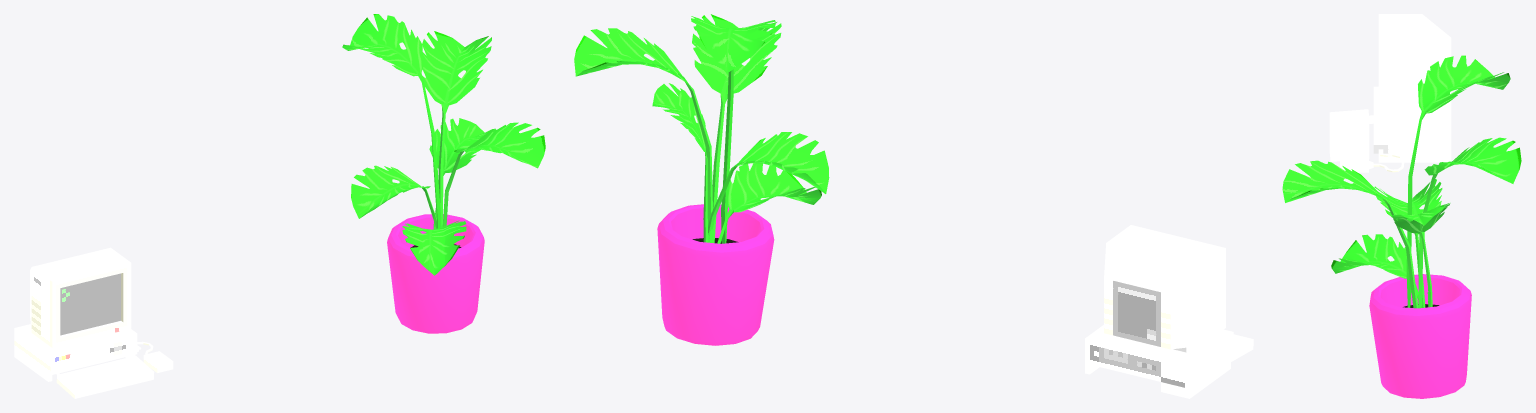
The picture shows the model from 3 angles, left to right: view 1: azimuth 30°, elevation 25°; view 2: azimuth 150°, elevation 25°; view 3: azimuth 270°, elevation 25°; orthographic projection. The views are drawn at different scales.
Parts seen in each view (by area): view 1: Cylinder.003_1, Monitor_1, Cylinder.003_0, PC_0, Keyboard_3, Mouse_2; view 2: Cylinder.003_1, Cylinder.003_0, Monitor_1, PC_0; view 3: Cylinder.003_1, Cylinder.003_0, Monitor_1, PC_0, Keyboard_3, Mouse_2.
Boxes of the visible parts, x1=… form: Cylinder.003_1: x1=342, y1=14, x2=545, y2=275; Monitor_1: x1=30, y1=247, x2=131, y2=347; Cylinder.003_0: x1=387, y1=214, x2=484, y2=333; PC_0: x1=14, y1=324, x2=137, y2=381; Keyboard_3: x1=56, y1=355, x2=154, y2=398; Mouse_2: x1=137, y1=341, x2=173, y2=372; Cylinder.003_1: x1=574, y1=14, x2=829, y2=243; Cylinder.003_0: x1=657, y1=204, x2=774, y2=345; Monitor_1: x1=1104, y1=225, x2=1225, y2=352; PC_0: x1=1085, y1=325, x2=1233, y2=398; Cylinder.003_1: x1=1282, y1=55, x2=1521, y2=308; Cylinder.003_0: x1=1369, y1=274, x2=1471, y2=398; Monitor_1: x1=1378, y1=14, x2=1451, y2=125; PC_0: x1=1373, y1=86, x2=1451, y2=162; Keyboard_3: x1=1329, y1=109, x2=1373, y2=161; Mouse_2: x1=1340, y1=149, x2=1404, y2=172.
Bounding box in the file's own units: 2.81 × 1.56 × 1.12.
